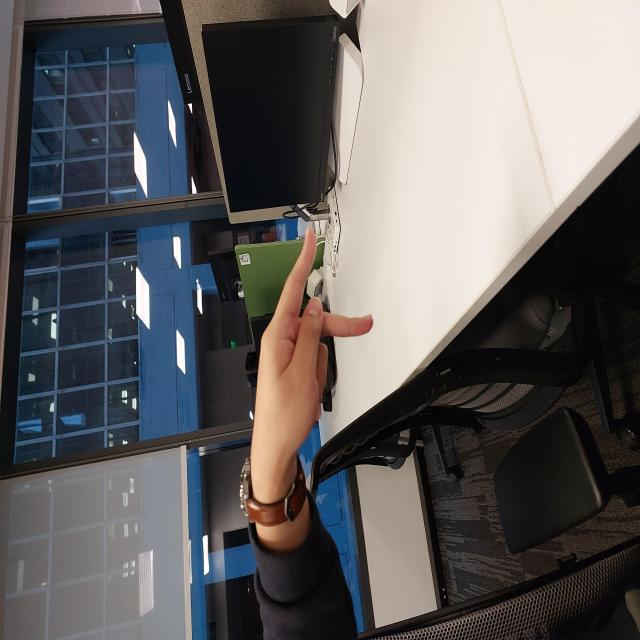P: (209, 256, 414, 372)
